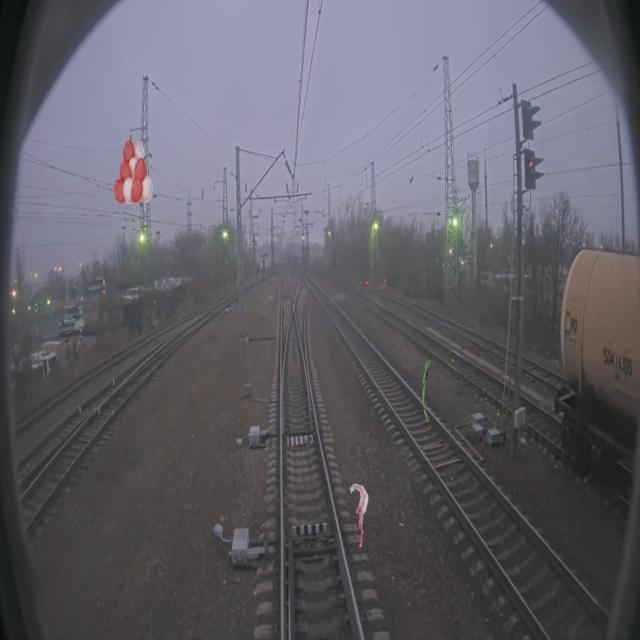balloon: (114, 140, 152, 204)
floating object: (349, 483, 368, 547), (422, 359, 432, 424)
